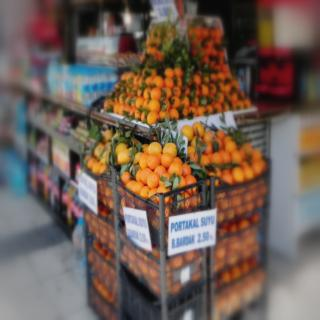Orange: (182, 162, 192, 178)
